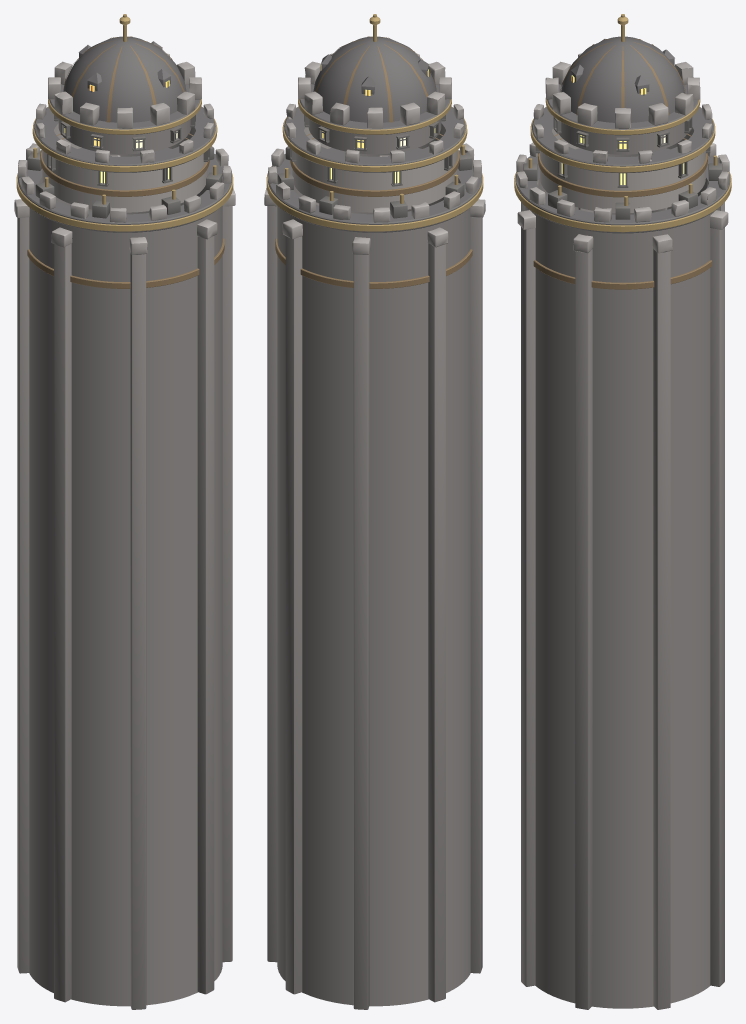
Rendered from SM_Area2_Tower_Near.glb.
3 renders of one model, left to right at view 1: azimuth 30°, elevation 25°; view 2: azimuth 150°, elevation 25°; view 3: azimuth 270°, elevation 25°, orthographic.
Visible parts, largest first — view 1: SM_Area2_Tower_Near; view 2: SM_Area2_Tower_Near; view 3: SM_Area2_Tower_Near.
Boxes of the visible parts, x1,y1,x2,y2 form: SM_Area2_Tower_Near: [14, 14, 235, 1009]; SM_Area2_Tower_Near: [264, 14, 485, 1009]; SM_Area2_Tower_Near: [514, 14, 731, 1009].
Bounding box in the file's own units: 8 × 38.64 × 8.
